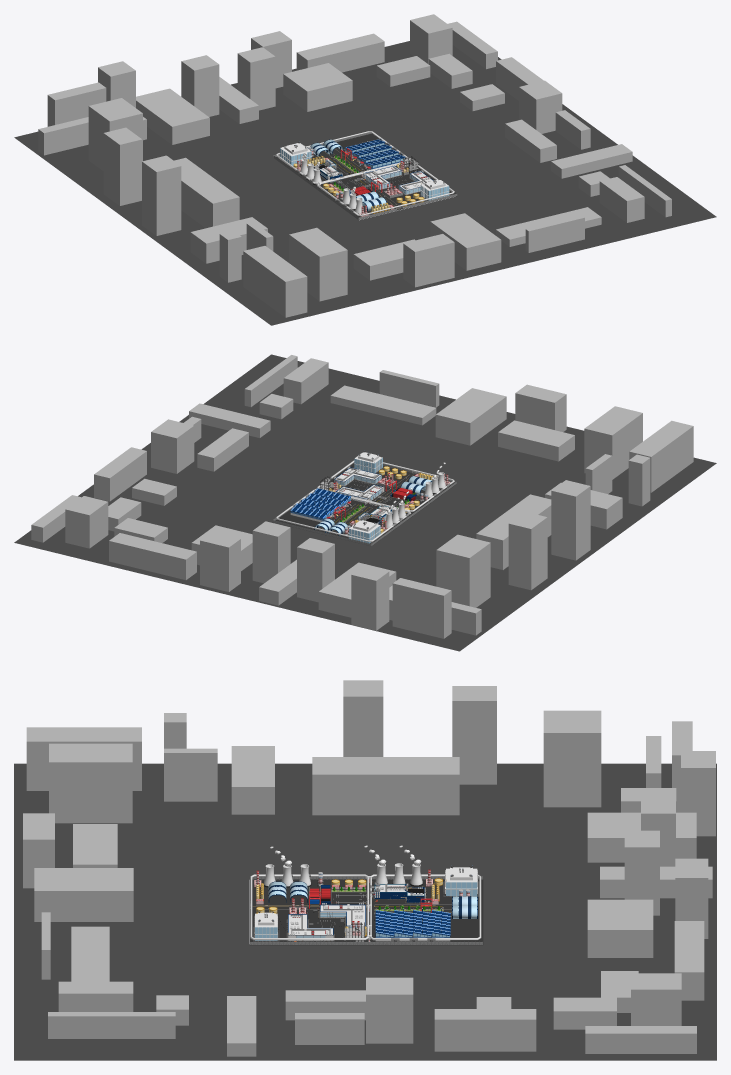
The model's file is env-company-rnd.glb.
3 views of the same model, one above another, from view 1: azimuth 30°, elevation 25°; view 2: azimuth 150°, elevation 25°; view 3: azimuth 270°, elevation 25° (orthographic). The views are drawn at different scales.
Visible parts, largest first — view 1: background, env_industry_main, pipe2, building_office, Cube.093; view 2: background, env_industry_main, pipe2, building_office.002, Cube.093, buidling_production_large.003, building_office, Cube.095; view 3: background, env_industry_main, pipe2, Cube.093, building_office, building_office.002, building_production, Cube.095, exhaust_big.002, machine hall 1.001.
Part boxes in pixels (x1=…): background: x1=14, y1=14, x2=716, y2=325; env_industry_main: x1=273, y1=132, x2=457, y2=219; pipe2: x1=275, y1=131, x2=454, y2=216; building_office: x1=362, y1=165, x2=402, y2=190; Cube.093: x1=278, y1=142, x2=312, y2=167; background: x1=14, y1=354, x2=716, y2=651; env_industry_main: x1=273, y1=462, x2=456, y2=546; pipe2: x1=276, y1=460, x2=454, y2=541; building_office.002: x1=333, y1=466, x2=381, y2=486; Cube.093: x1=348, y1=519, x2=382, y2=543; buidling_production_large.003: x1=290, y1=503, x2=331, y2=522; building_office: x1=336, y1=483, x2=385, y2=503; Cube.095: x1=353, y1=451, x2=383, y2=473; background: x1=14, y1=680, x2=716, y2=1060; env_industry_main: x1=249, y1=876, x2=483, y2=945; pipe2: x1=250, y1=874, x2=481, y2=940; Cube.093: x1=443, y1=865, x2=479, y2=896; building_office: x1=318, y1=903, x2=366, y2=928; building_office.002: x1=286, y1=912, x2=335, y2=941; building_production: x1=372, y1=882, x2=426, y2=903; Cube.095: x1=253, y1=911, x2=279, y2=941; exhaust_big.002: x1=375, y1=863, x2=423, y2=886; machine hall 1.001: x1=452, y1=896, x2=477, y2=918.
Size of the model in its own units: 910 by 127 by 910.
18 materials, 16 textured.
